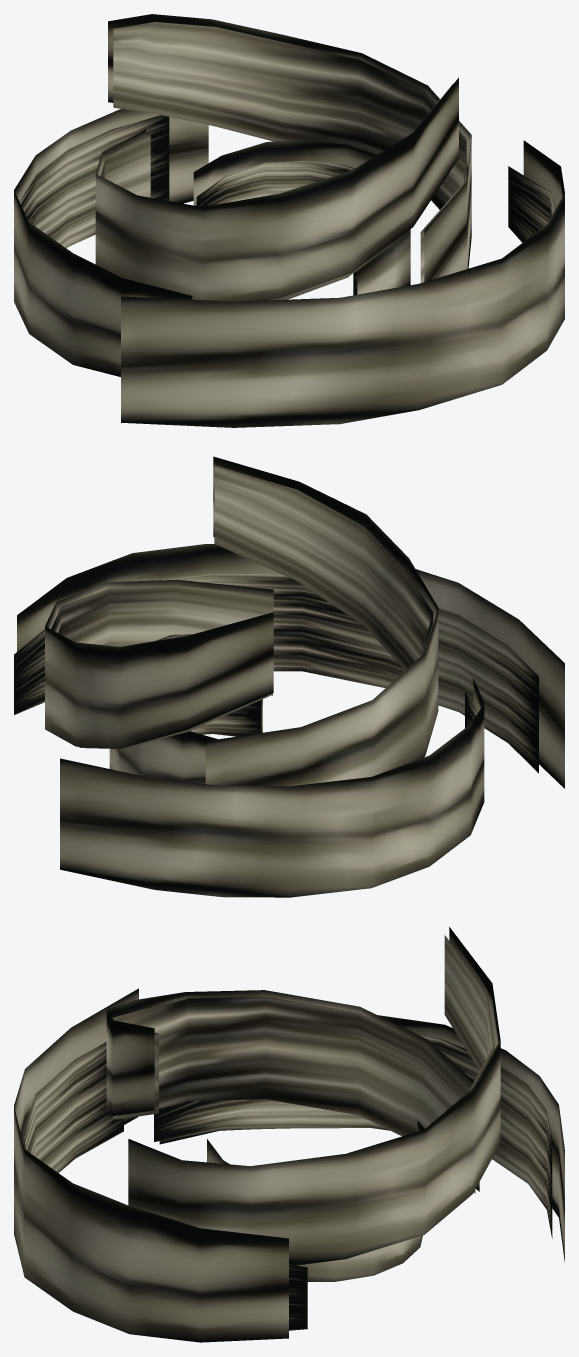
The model's file is windWaves.fbx.
The picture shows the model from 3 angles, top to bottom: view 1: azimuth 30°, elevation 25°; view 2: azimuth 150°, elevation 25°; view 3: azimuth 270°, elevation 25°; orthographic projection.
Parts seen in each view (by area): view 1: outer, inner; view 2: outer, inner; view 3: outer, inner.
Boxes of the visible parts, <box> form: outer: <box>14,14,564,427</box>; inner: <box>19,22,554,300</box>; outer: <box>17,456,564,897</box>; inner: <box>14,465,538,773</box>; outer: <box>14,927,564,1342</box>; inner: <box>23,935,552,1330</box>.
Size of the model in its own units: 4361 by 2234 by 4301.
Materials: 1 (1 with a texture image).
